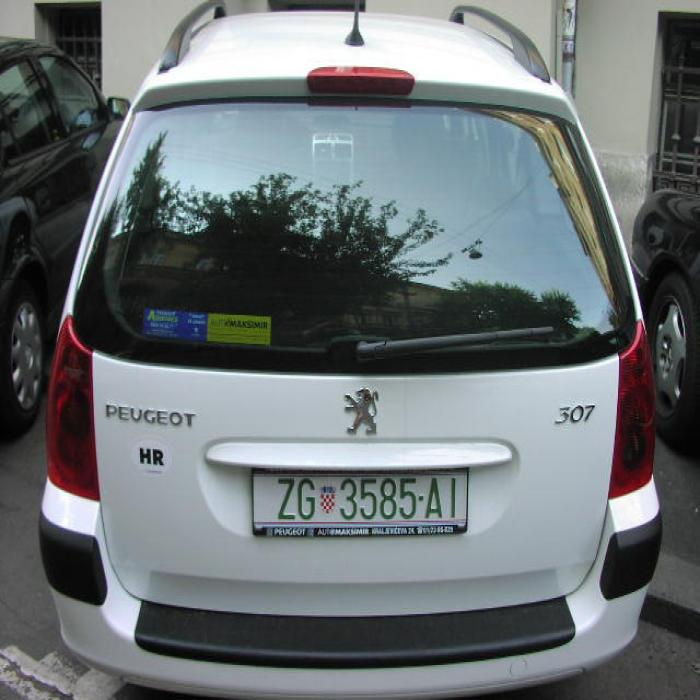number_plate: (253, 473, 465, 522)
